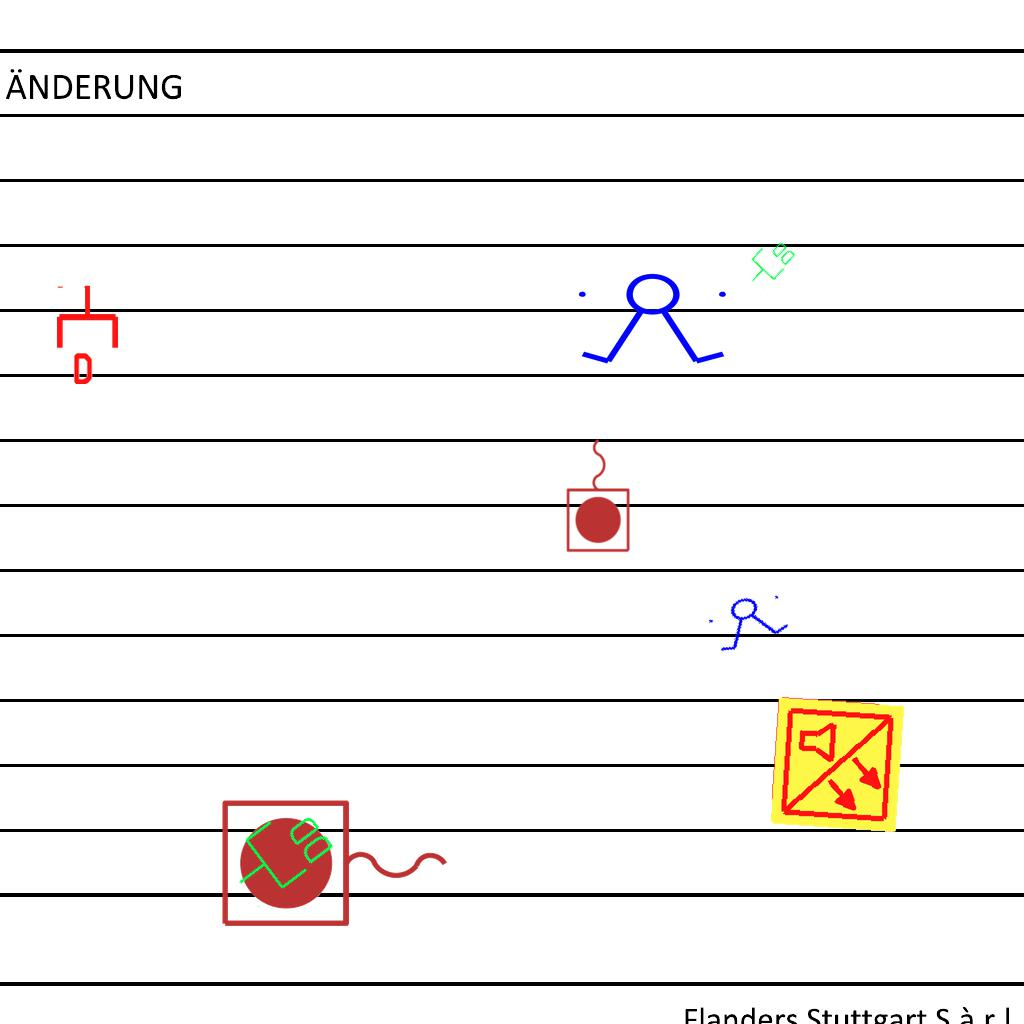Datenanschluss_einfach: (53, 284, 122, 384)
Datenanschluss_zweifach: (217, 794, 342, 913), (739, 232, 800, 294)
OKW_Multisensormelder_(Kombination_optischer_Rauch-Kahlenmonoxid_Waerme-Melder): (766, 694, 908, 836)
Serienschalter: (570, 272, 738, 368), (701, 584, 797, 658)
Zugtaster: (214, 793, 458, 937), (563, 434, 635, 556)
